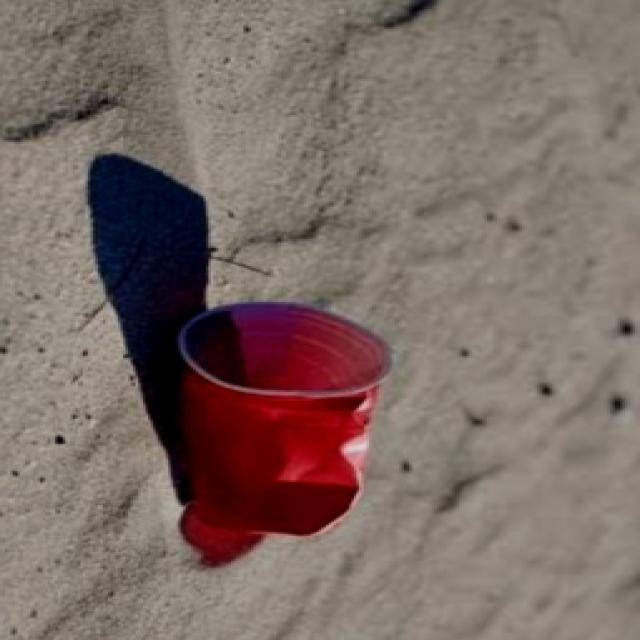plastic: (139, 283, 441, 574)
